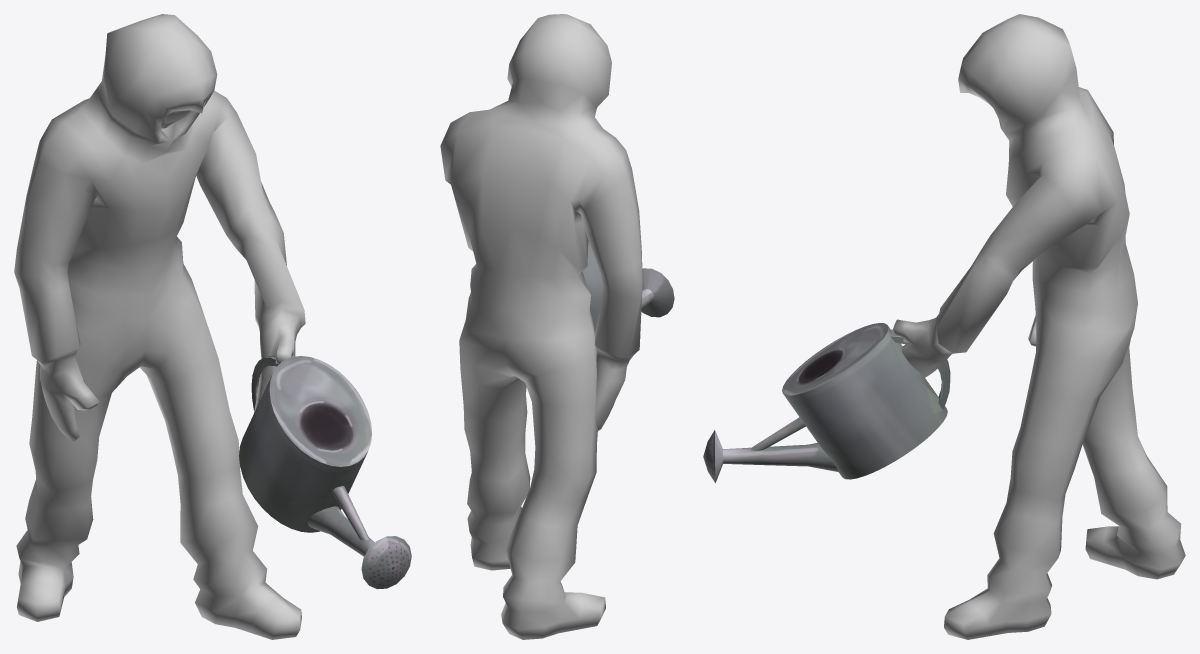
Rendered from Character_Pose_4.fbx.
3 views of the same model, side by side, from view 1: azimuth 30°, elevation 25°; view 2: azimuth 150°, elevation 25°; view 3: azimuth 270°, elevation 25° (orthographic). The views are drawn at different scales.
Visible parts, largest first — view 1: Body.001, Cube; view 2: Body.001, Cube; view 3: Body.001, Cube.
Part boxes in pixels (box(x1,y1,x2,y2)): Body.001: box(14, 14, 305, 639); Cube: box(239, 355, 411, 589); Body.001: box(440, 14, 642, 639); Cube: box(582, 241, 674, 332); Body.001: box(893, 14, 1185, 639); Cube: box(703, 323, 950, 483).
Bounding box in the file's own units: 69.42 × 179 × 137.
